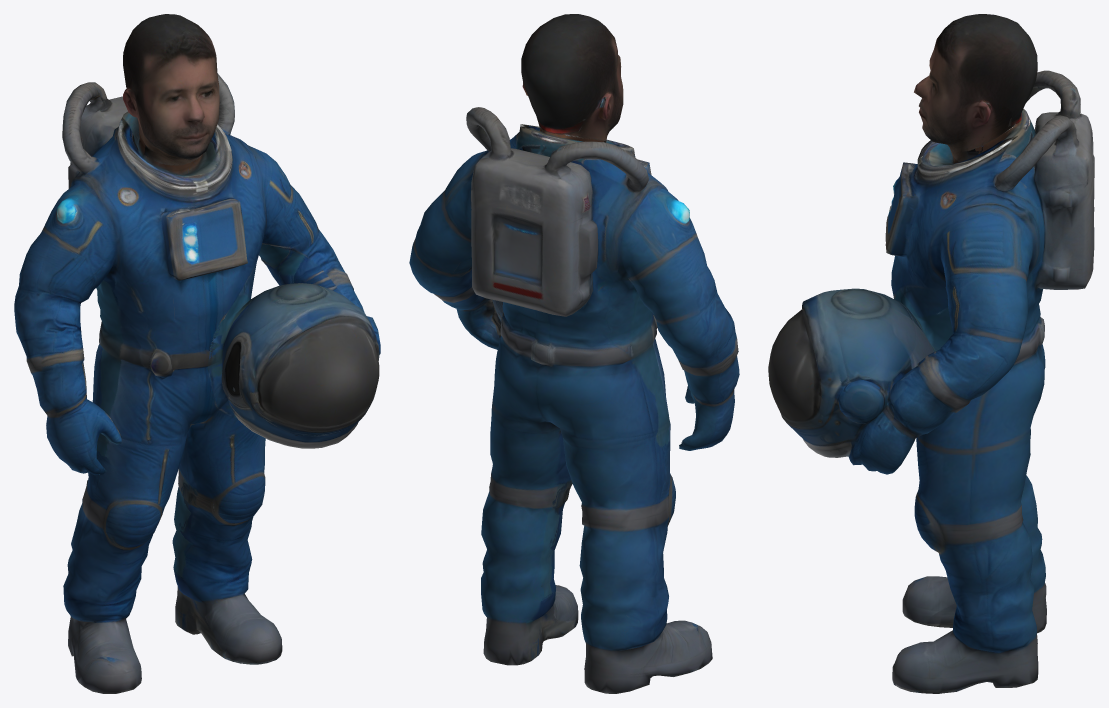
Rendered from Astronaut_BBGamer.glb.
3 views of the same model, side by side, from view 1: azimuth 30°, elevation 25°; view 2: azimuth 150°, elevation 25°; view 3: azimuth 270°, elevation 25° (orthographic). The views are drawn at different scales.
Bounding box in the file's own units: 1.05 × 2 × 0.9306.
Materials: 1 (1 with a texture image).
